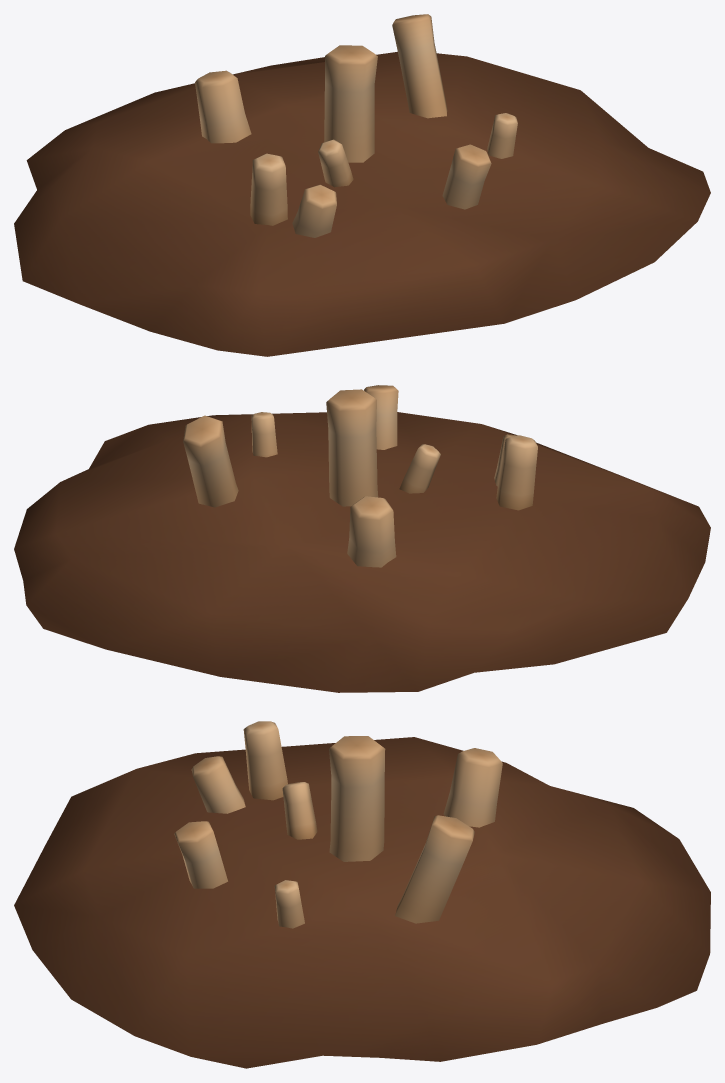
Rendered from SM_PlantSoil_AmanitaMushroom_Dead.fbx.
3 renders of one model, top to bottom at view 1: azimuth 30°, elevation 25°; view 2: azimuth 150°, elevation 25°; view 3: azimuth 270°, elevation 25°, orthographic. The views are drawn at different scales.
Visible parts, largest first — view 1: SM_PlantSoil_AmanitaMushroom_Dead; view 2: SM_PlantSoil_AmanitaMushroom_Dead; view 3: SM_PlantSoil_AmanitaMushroom_Dead.
Part boxes in pixels (<box>): SM_PlantSoil_AmanitaMushroom_Dead: <box>14,14,710,356</box>; SM_PlantSoil_AmanitaMushroom_Dead: <box>14,385,710,692</box>; SM_PlantSoil_AmanitaMushroom_Dead: <box>14,721,710,1068</box>.
Bounding box in the file's own units: 118 × 37.71 × 106.
